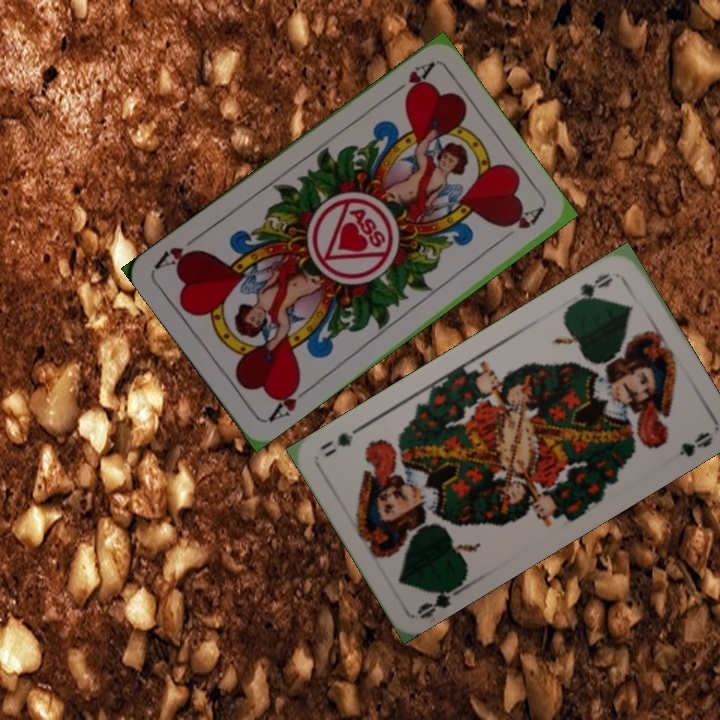GO: (413, 576, 468, 622), (567, 268, 616, 309)
HA: (263, 377, 314, 425), (384, 58, 437, 101)
